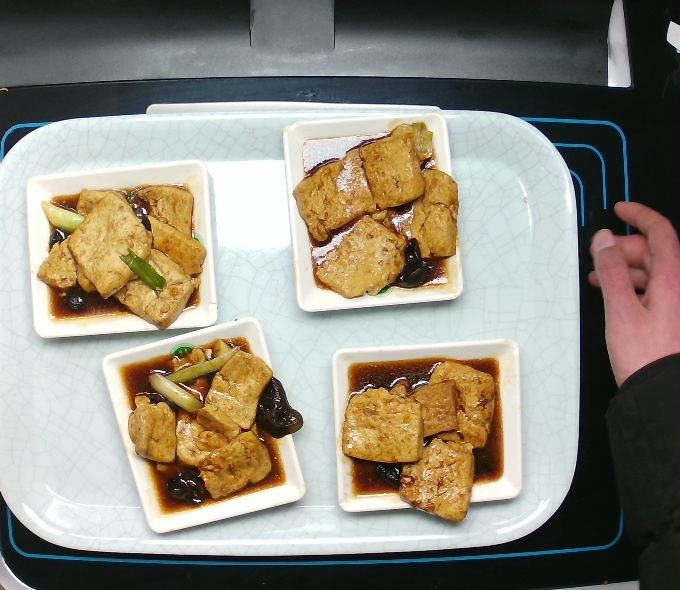wcq-JiaChangDouFu: (113, 330, 308, 519), (289, 117, 464, 303), (334, 350, 511, 527), (32, 177, 211, 335)
